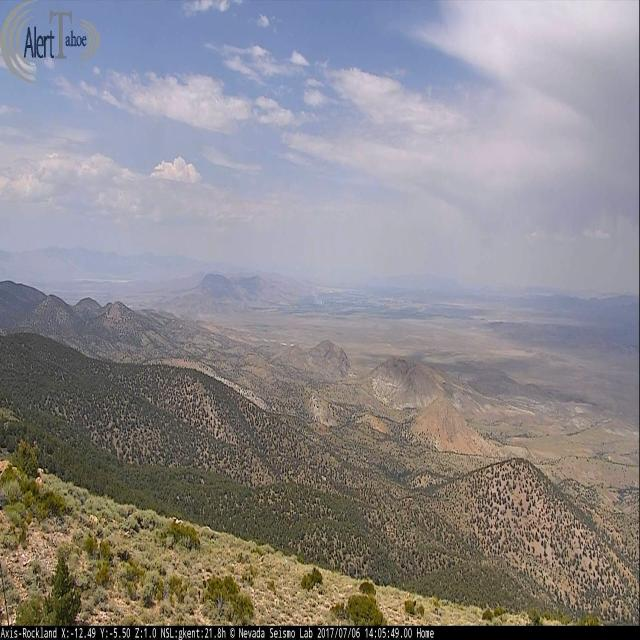smoke: (313, 290, 324, 306)
